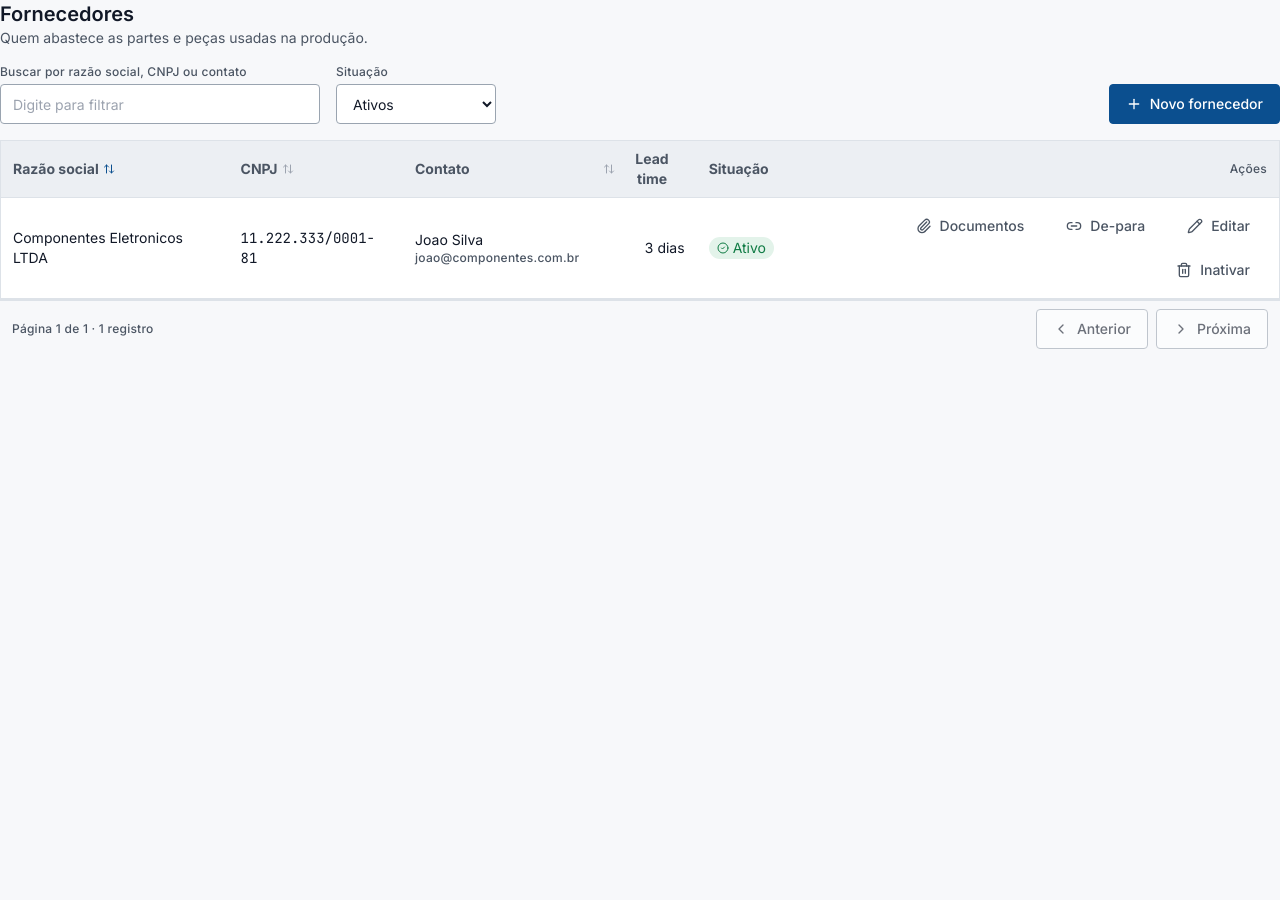
Test: Fornecedores › editar mantem o lead time do cadastro, nao o padrao
Check: the text "11.222.333/0001-81" is shown, box 241,229 -> 375,267
Step 1. Click the button with aria-label "Editar Componentes Eletronicos LTDA" → (1219, 226), box 1170,206 -> 1267,246
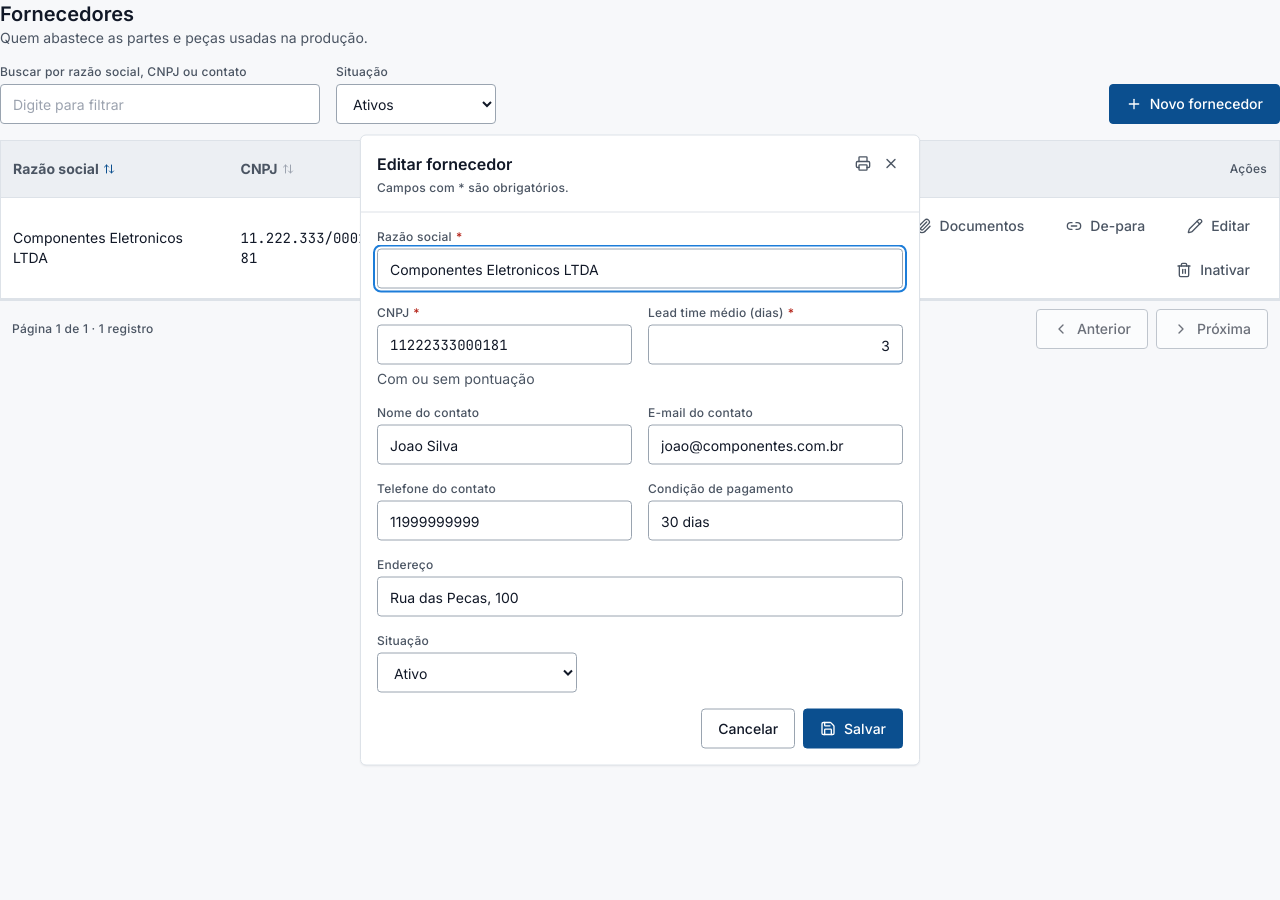
Check: the field labelled "Lead time médio (dias)*" holds "3", box 648,324 -> 903,364
